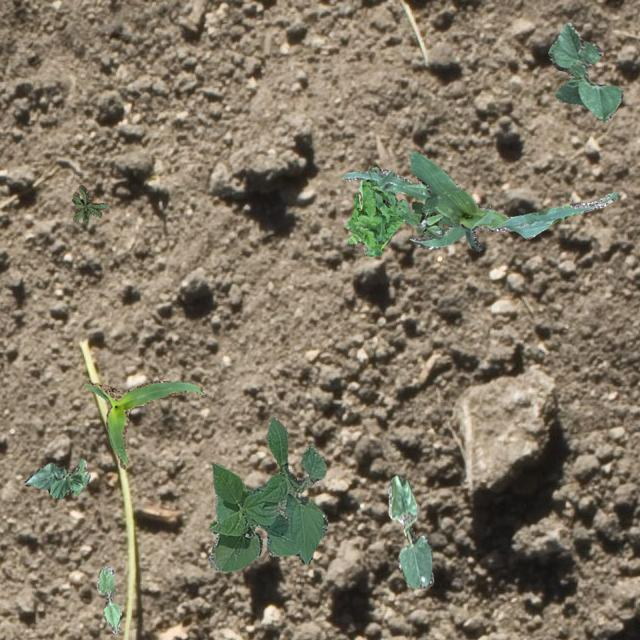crop: (410, 150, 616, 250), (208, 416, 326, 570), (84, 380, 202, 468), (340, 168, 464, 248), (548, 22, 622, 122), (387, 473, 432, 588), (23, 458, 88, 498), (96, 566, 120, 632)
weed: (346, 164, 410, 256), (402, 190, 446, 238), (70, 184, 106, 224)
